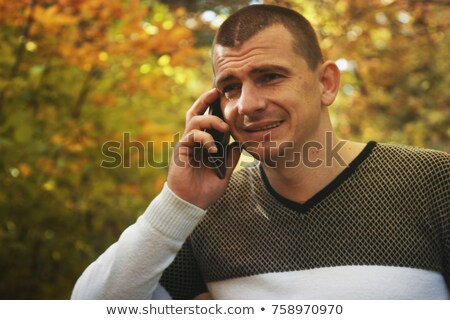phone: (195, 86, 231, 178)
talk: (176, 57, 304, 196)
